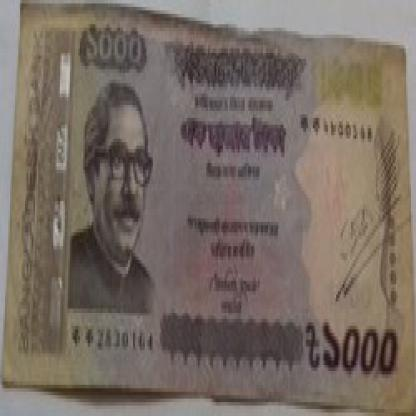One Thousand taka: (305, 312, 401, 392), (80, 21, 150, 80)
